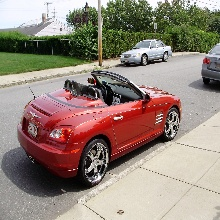no damage: (17, 69, 182, 188), (119, 38, 172, 66)
